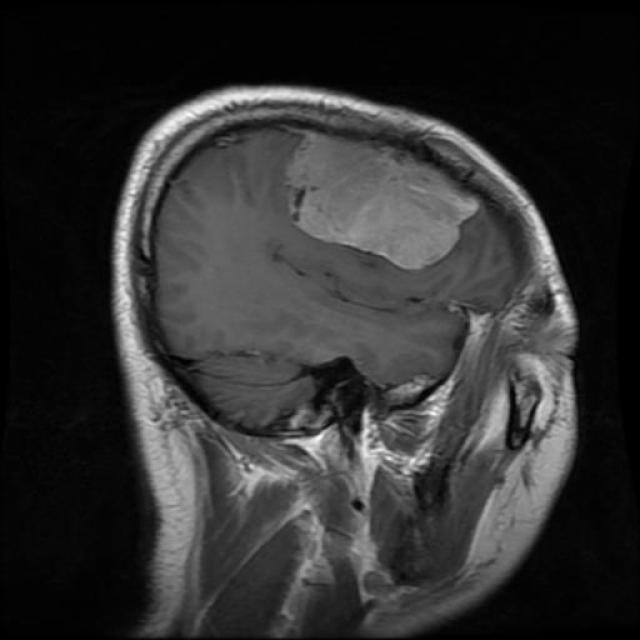meningioma: (294, 122, 473, 273)
